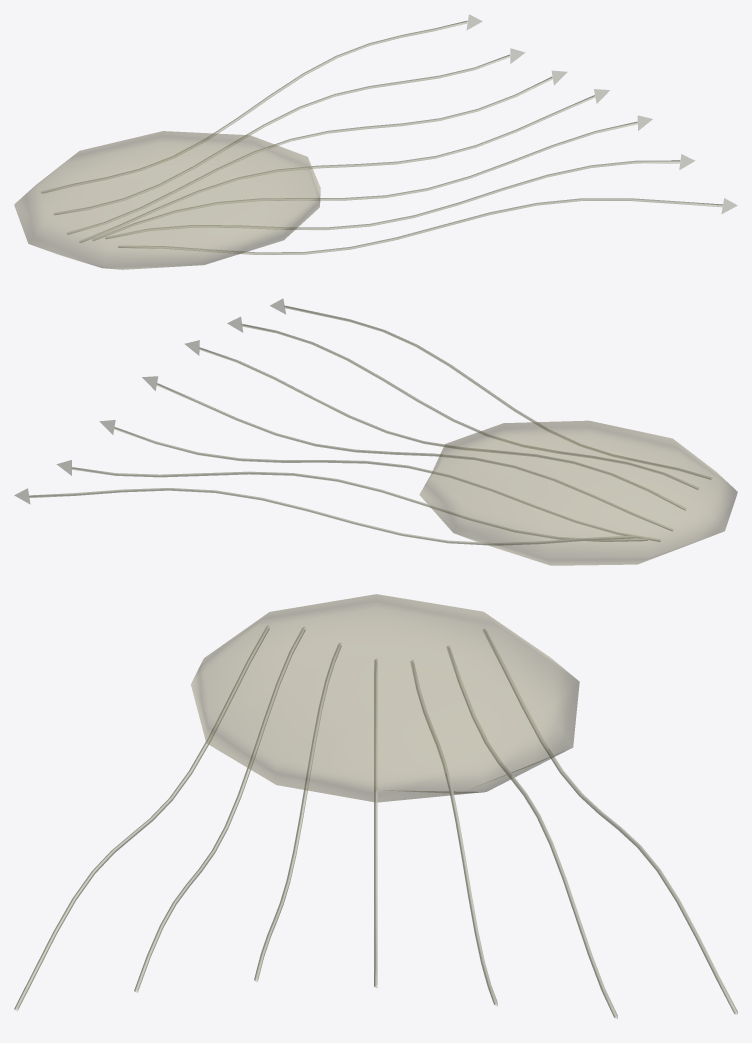
File: lake-plume-shallows-0.glb
3 views of the same model, one above another, from view 1: azimuth 30°, elevation 25°; view 2: azimuth 150°, elevation 25°; view 3: azimuth 270°, elevation 25° (orthographic). The views are drawn at different scales.
Parts seen in each view (by area): view 1: lake-plume-shallows-0; view 2: lake-plume-shallows-0; view 3: lake-plume-shallows-0.
Boxes of the visible parts, left/top/right/bottom form: lake-plume-shallows-0: left=14, top=14, right=737, bottom=269; lake-plume-shallows-0: left=14, top=298, right=737, bottom=565; lake-plume-shallows-0: left=14, top=594, right=737, bottom=1018.
Size of the model in its own units: 4.52 by 0.4919 by 3.45.
